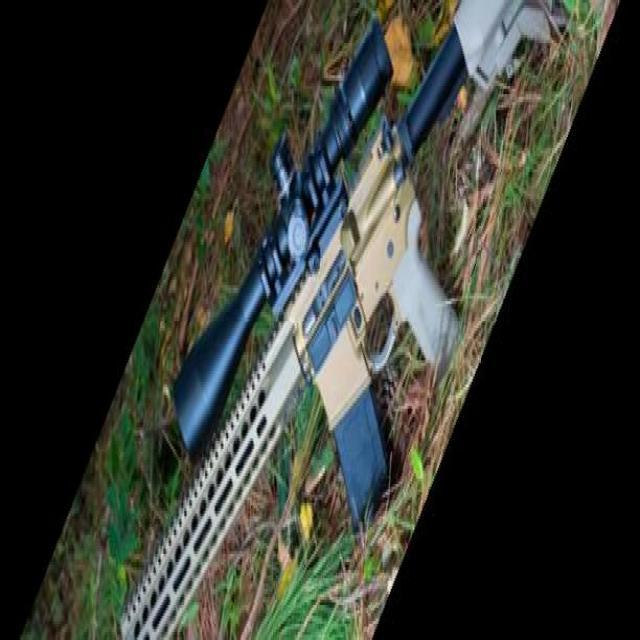weapon: (119, 2, 553, 640)
